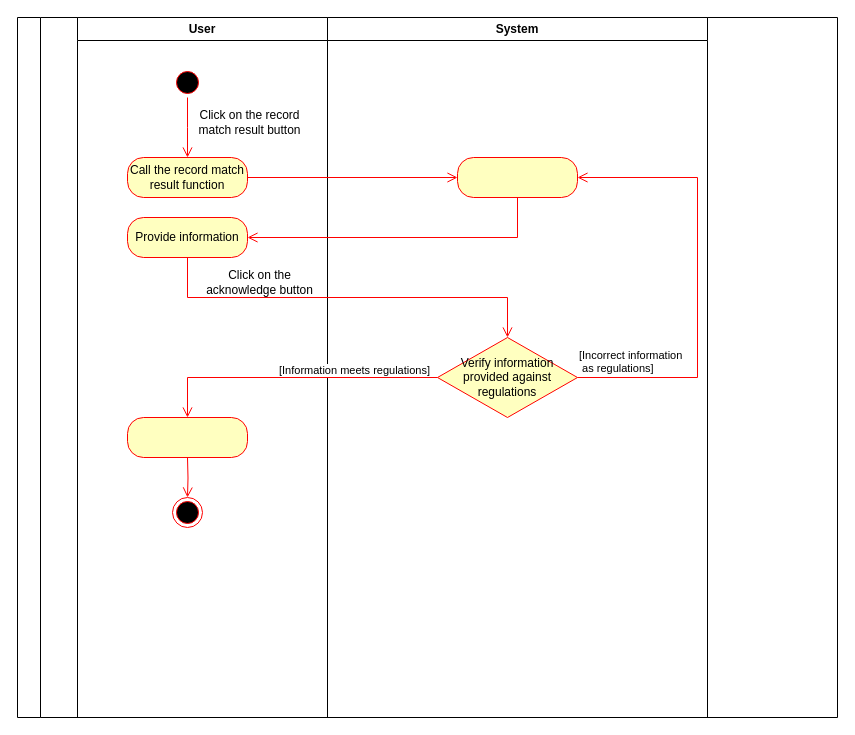
This 855x735 diagram has some shape labels left out. The shapes that lost their labels are listed below. From the top down, each one's box as (x1, y1, x2, y2) in pixels, then its label:
(456, 156, 578, 198): Request information provided
(126, 416, 248, 458): Record match result successful notification
